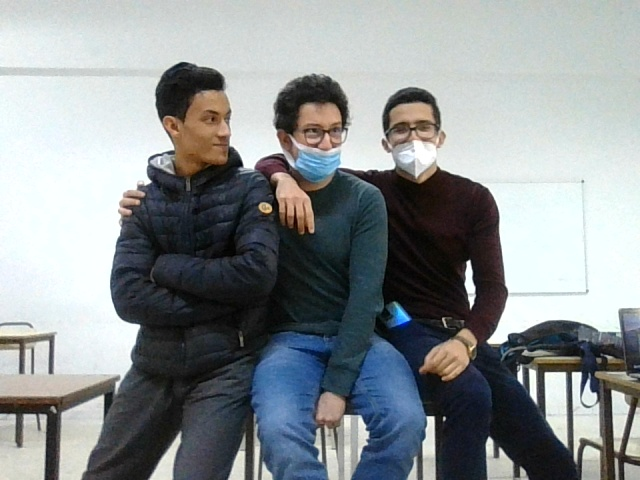mask_weared_incorrect: (272, 74, 358, 183), (374, 85, 449, 179)
without_mask: (145, 55, 253, 183)
